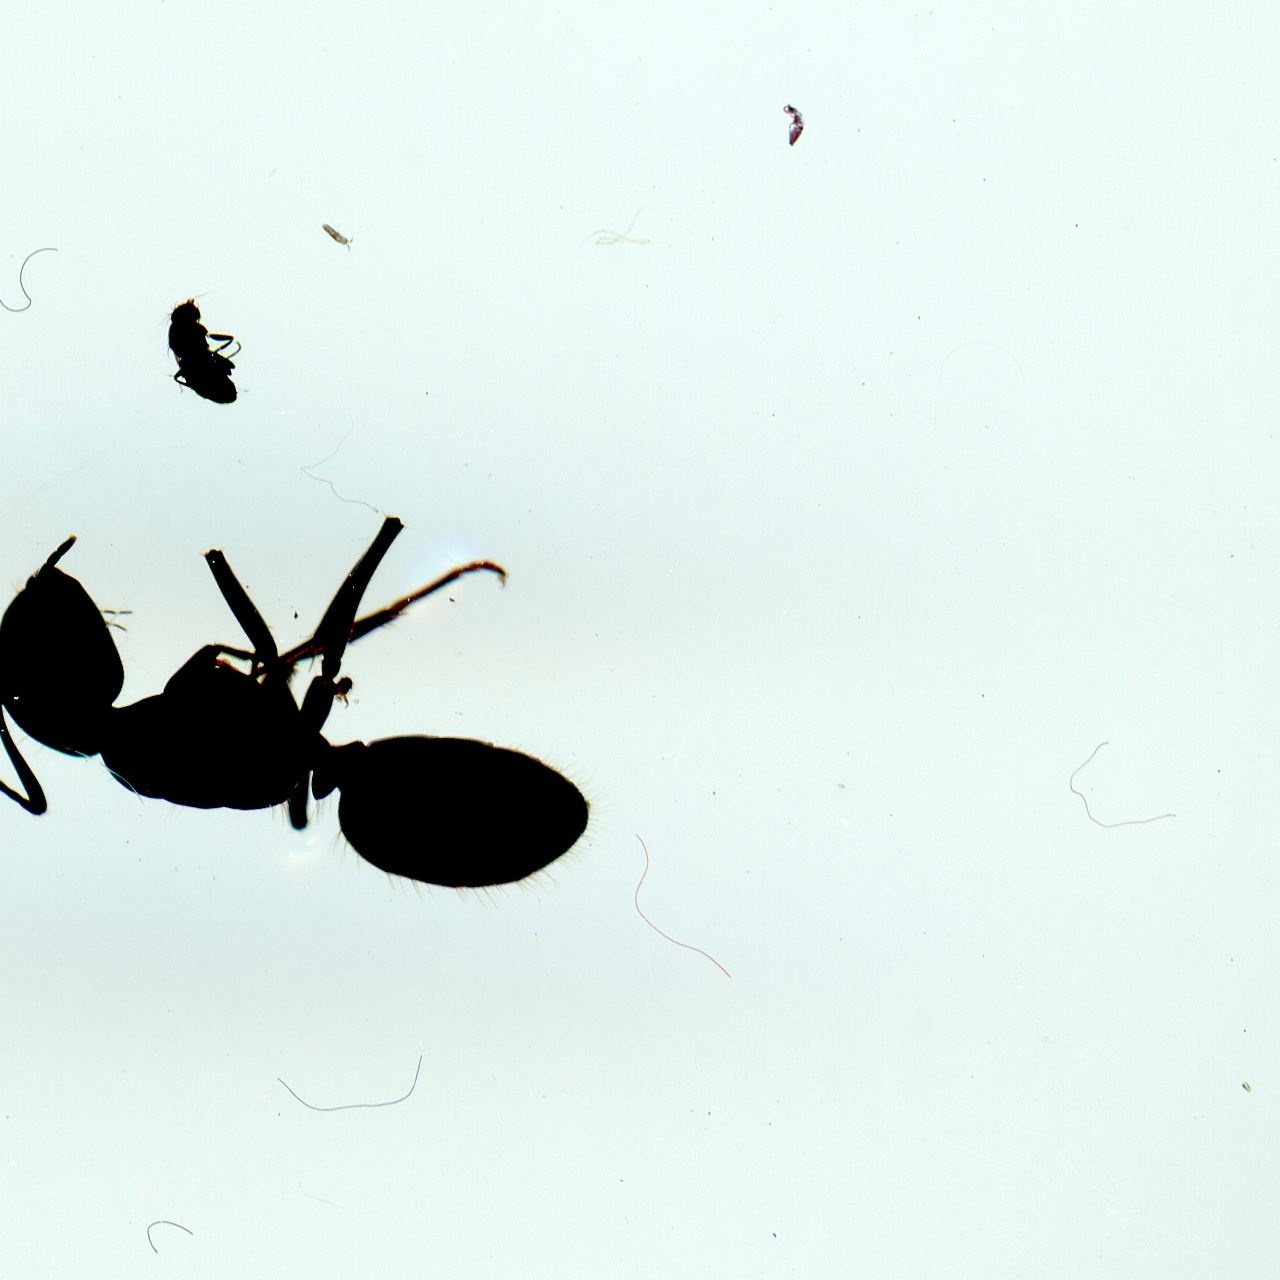arthropod: (0, 492, 622, 912), (139, 276, 264, 429), (313, 216, 364, 258), (778, 100, 808, 152)
